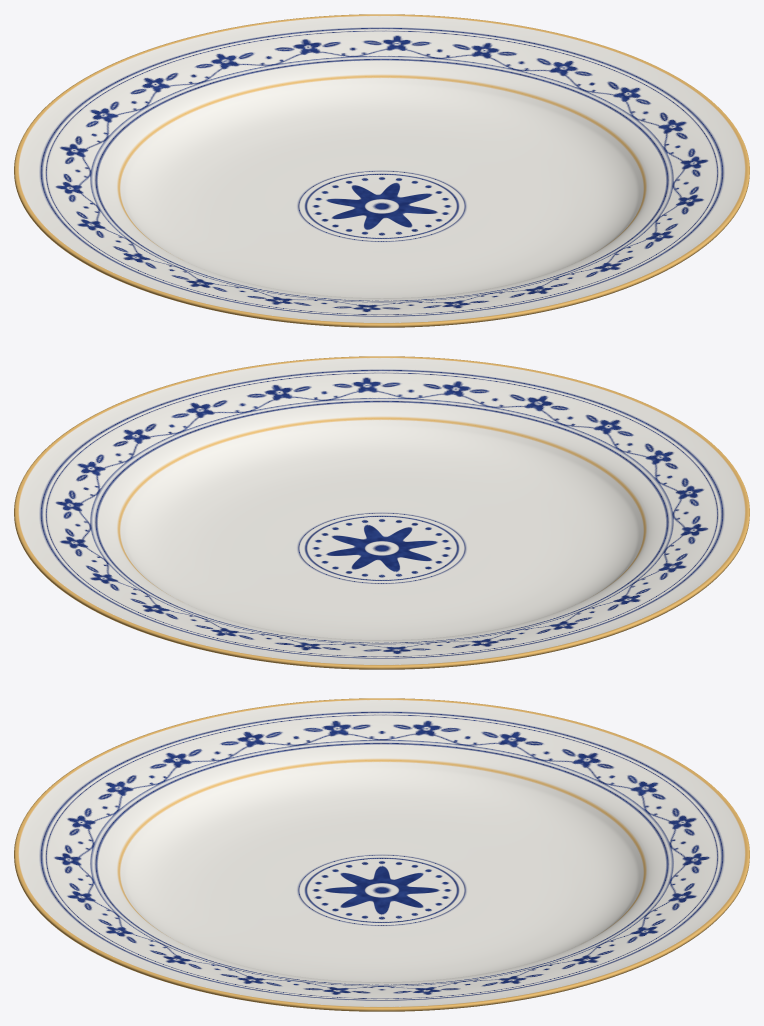
Rendered from platter.glb.
The picture shows the model from 3 angles, top to bottom: view 1: azimuth 30°, elevation 25°; view 2: azimuth 150°, elevation 25°; view 3: azimuth 270°, elevation 25°; orthographic projection.
Visible parts, largest first — view 1: platter; view 2: platter; view 3: platter.
Part boxes in pixels (<box>): platter: <box>14,14,749,327</box>; platter: <box>14,356,749,669</box>; platter: <box>14,698,749,1011</box>.
Bounding box in the file's own units: 0.3363 × 0.0274 × 0.3363.
1 material, 1 textured.
